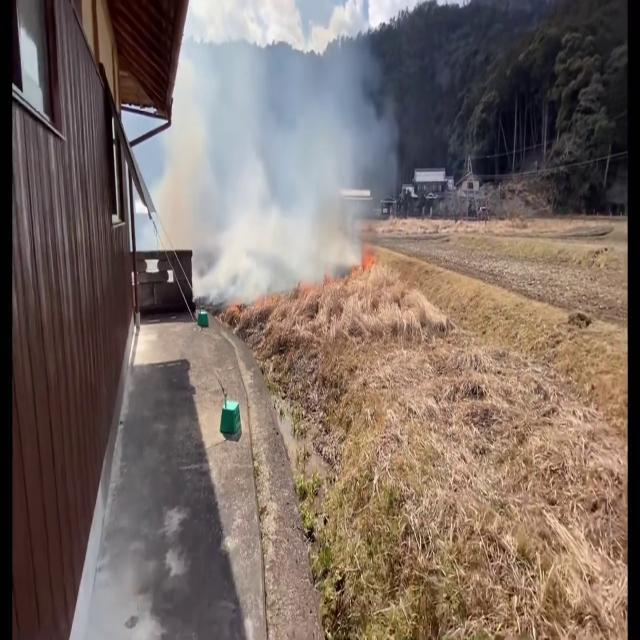Smoke: (163, 0, 402, 323)
